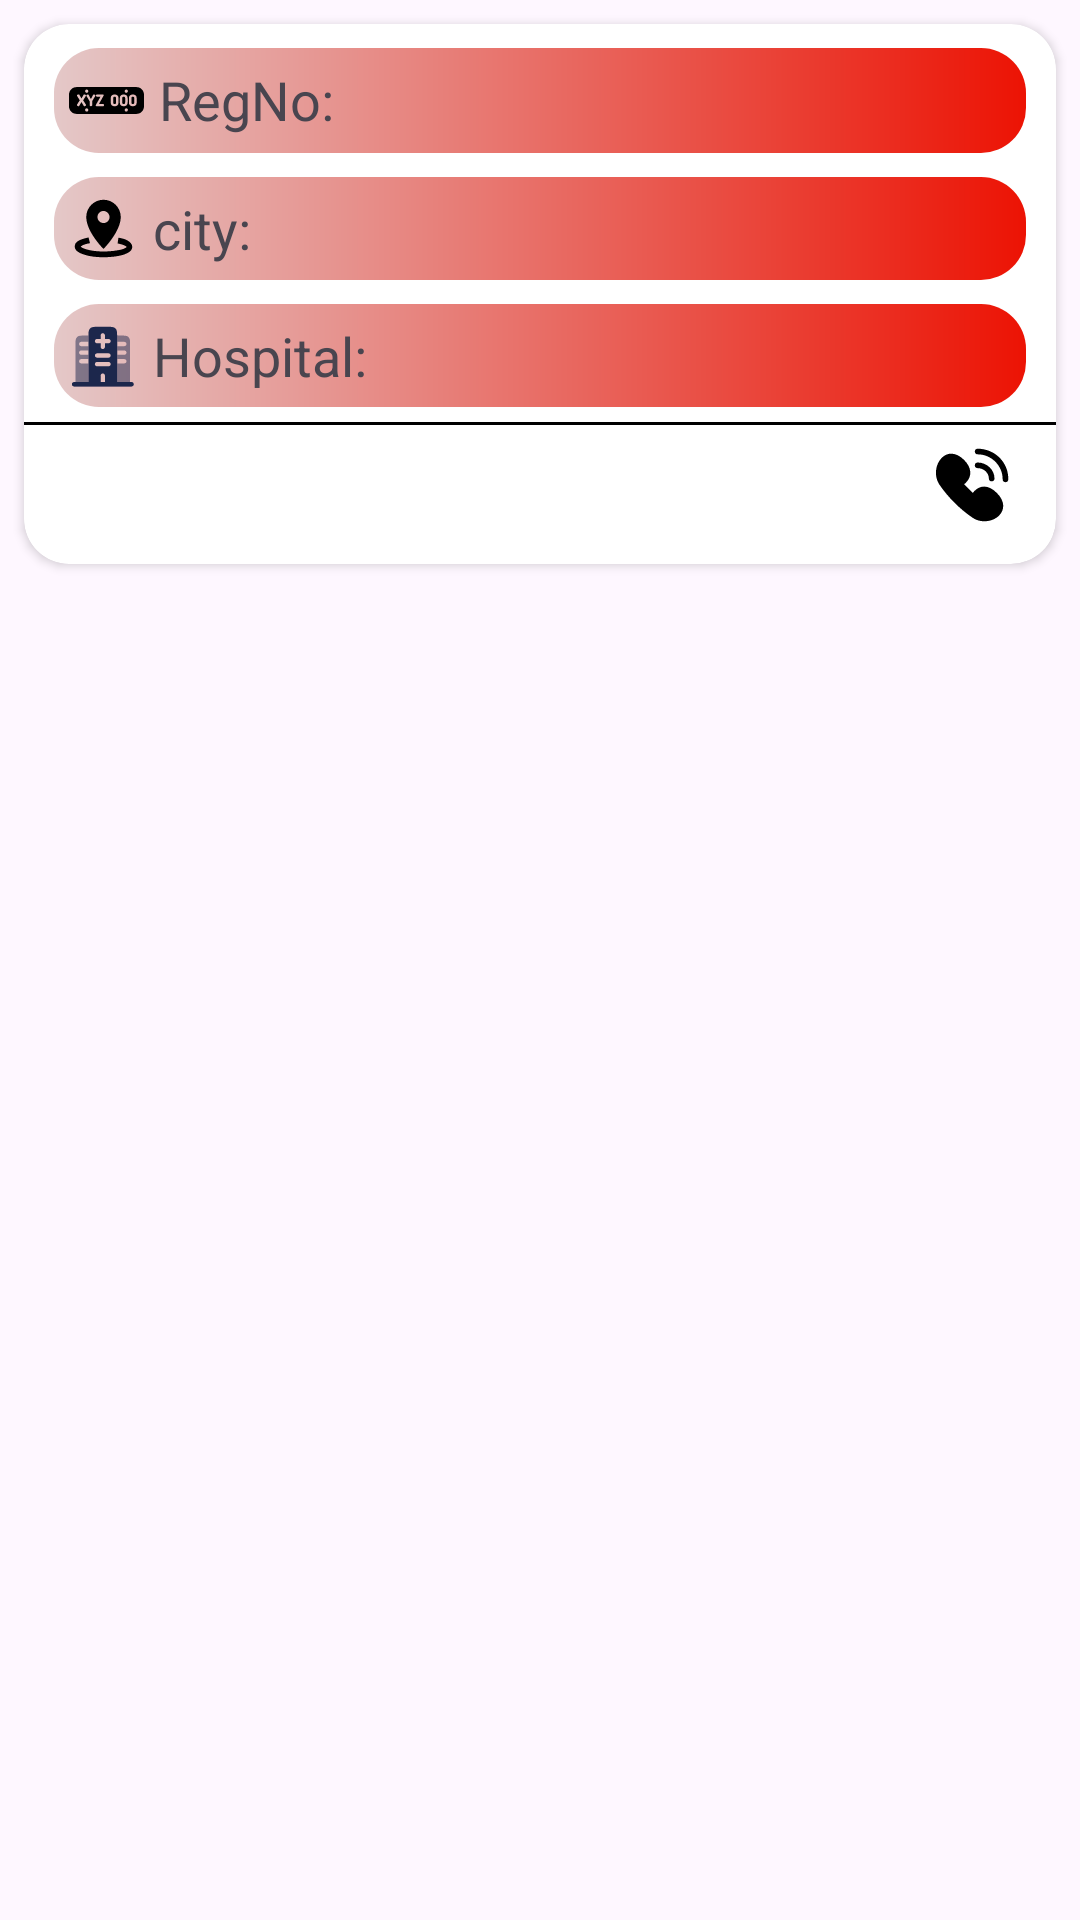

Screen size 1080*1920. Icon name, then its box in pixels as (x1, y1, x2, y2):
phone call ringing: (936, 448, 1009, 522)
